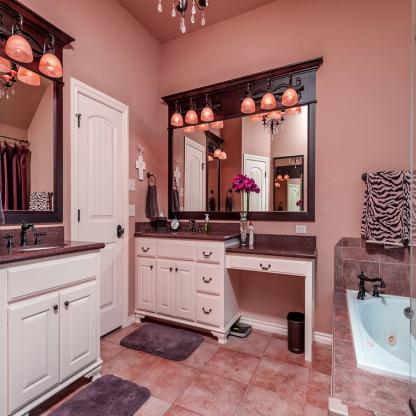door: (72, 88, 124, 338)
hinged: (78, 113, 80, 128), (78, 208, 80, 223)
knob: (119, 226, 125, 236)
